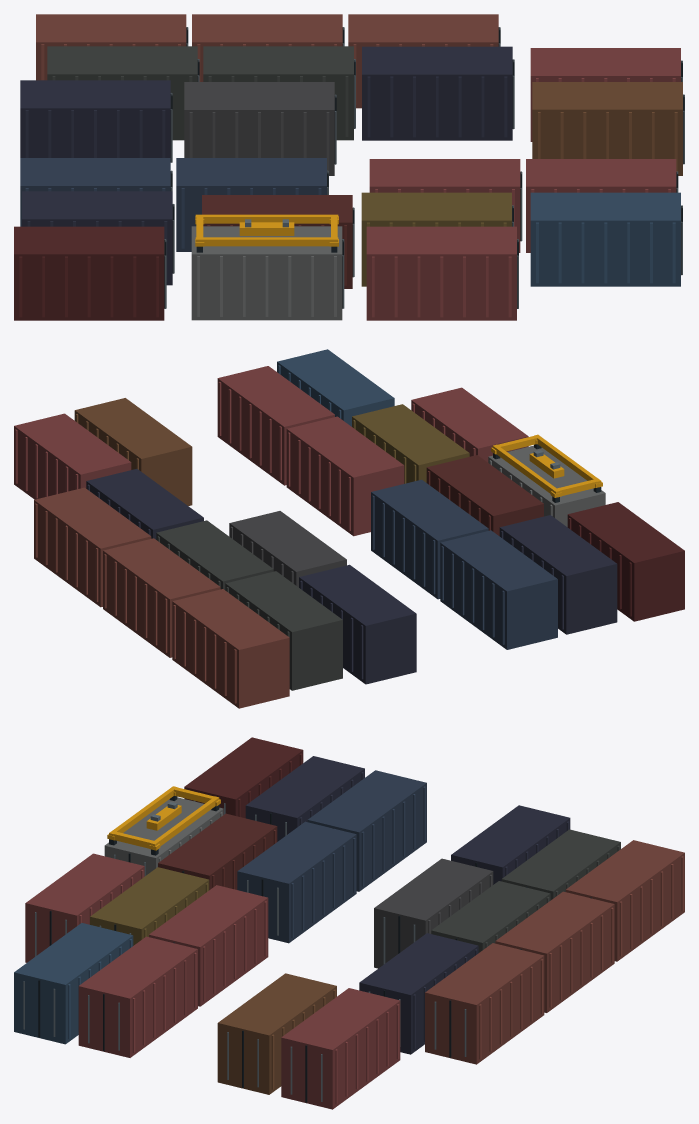
The model's file is containers-nw-se-04.glb.
3 views of the same model, one above another, from view 1: azimuth 30°, elevation 25°; view 2: azimuth 150°, elevation 25°; view 3: azimuth 270°, elevation 25° (orthographic). The views are drawn at different scales.
Visible parts, largest first — view 1: containers-nw-se-04; view 2: containers-nw-se-04; view 3: containers-nw-se-04.
Boxes of the visible parts, <box> form: containers-nw-se-04: <box>14,14,684,320</box>; containers-nw-se-04: <box>14,349,684,708</box>; containers-nw-se-04: <box>14,737,684,1109</box>.
Size of the model in its own units: 72.1 by 8.25 by 65.37.
